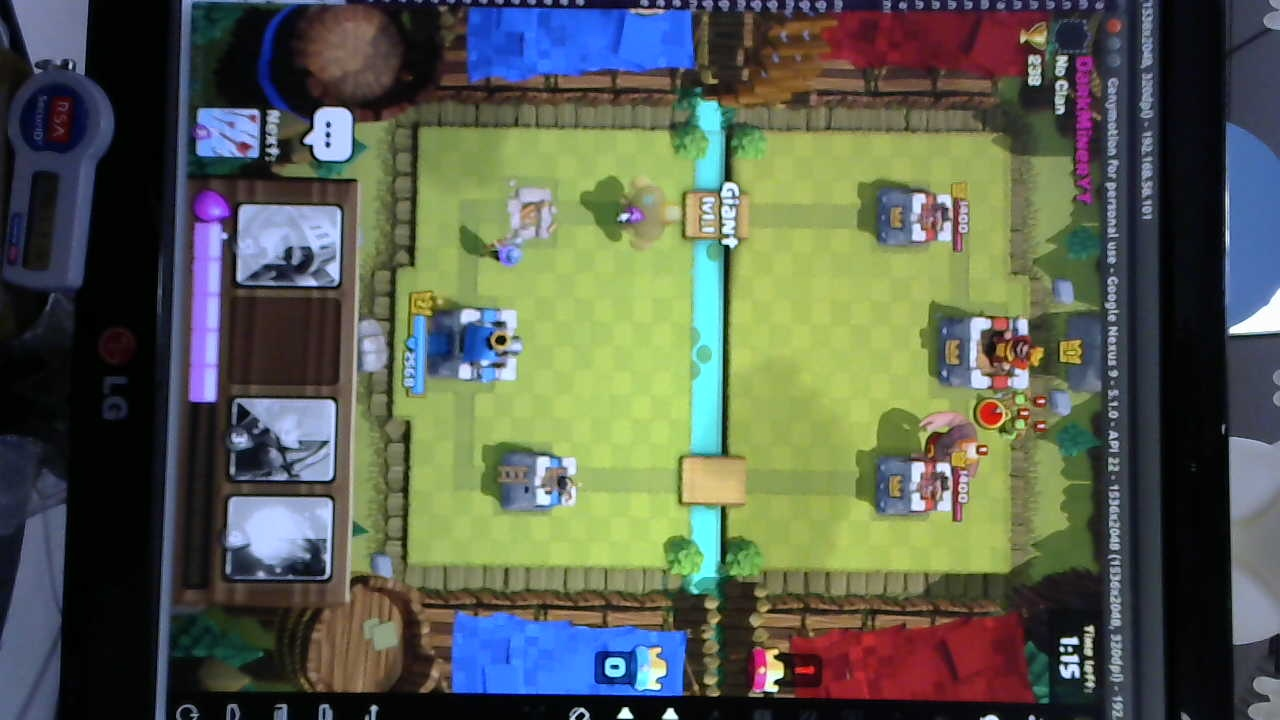arena: (502, 449, 580, 513)
darena: (501, 178, 559, 245)
earena: (868, 453, 957, 521), (873, 186, 959, 249)
eking: (934, 315, 1044, 393)
giant: (914, 409, 982, 493)
king: (428, 302, 528, 385)
musketeer: (475, 233, 529, 265)
speargoblins: (992, 391, 1044, 443)
